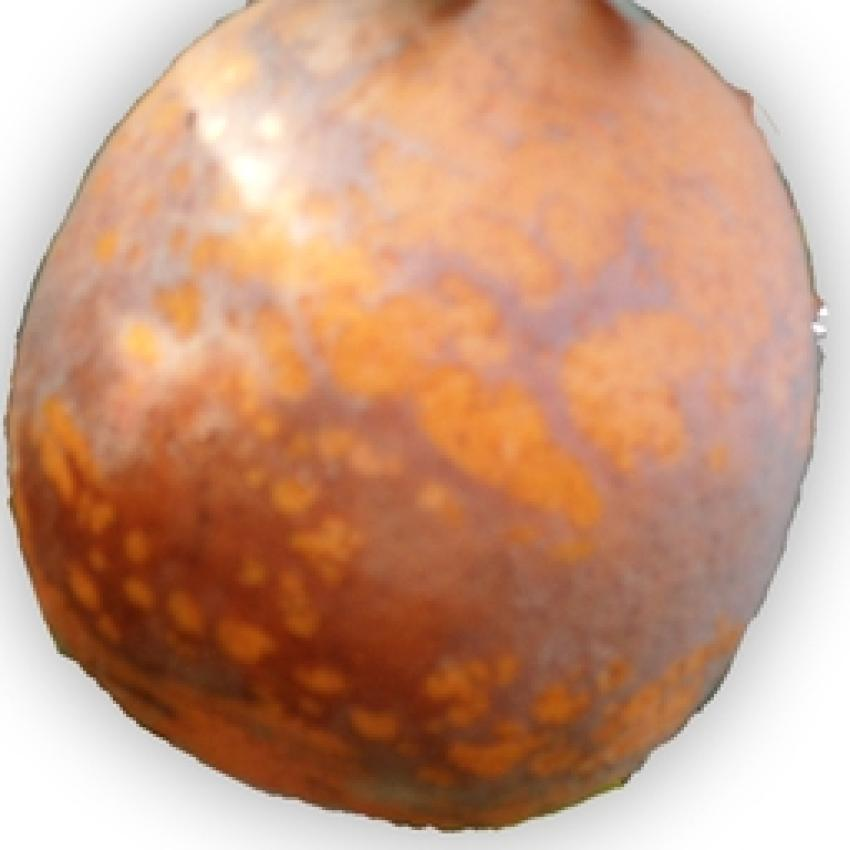Mal estado: (0, 0, 842, 824)
